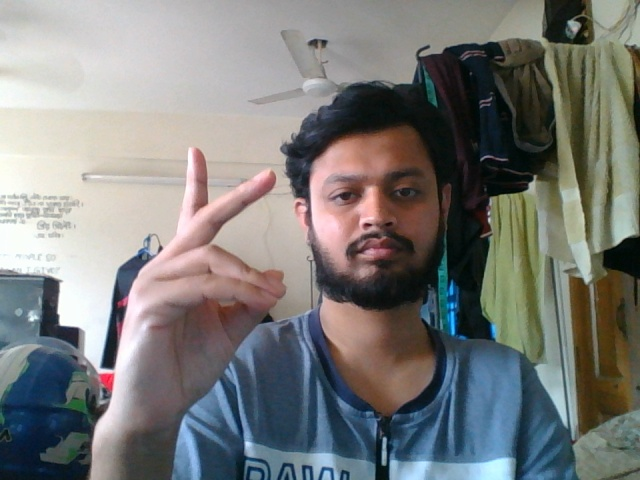na: (112, 140, 300, 475)
